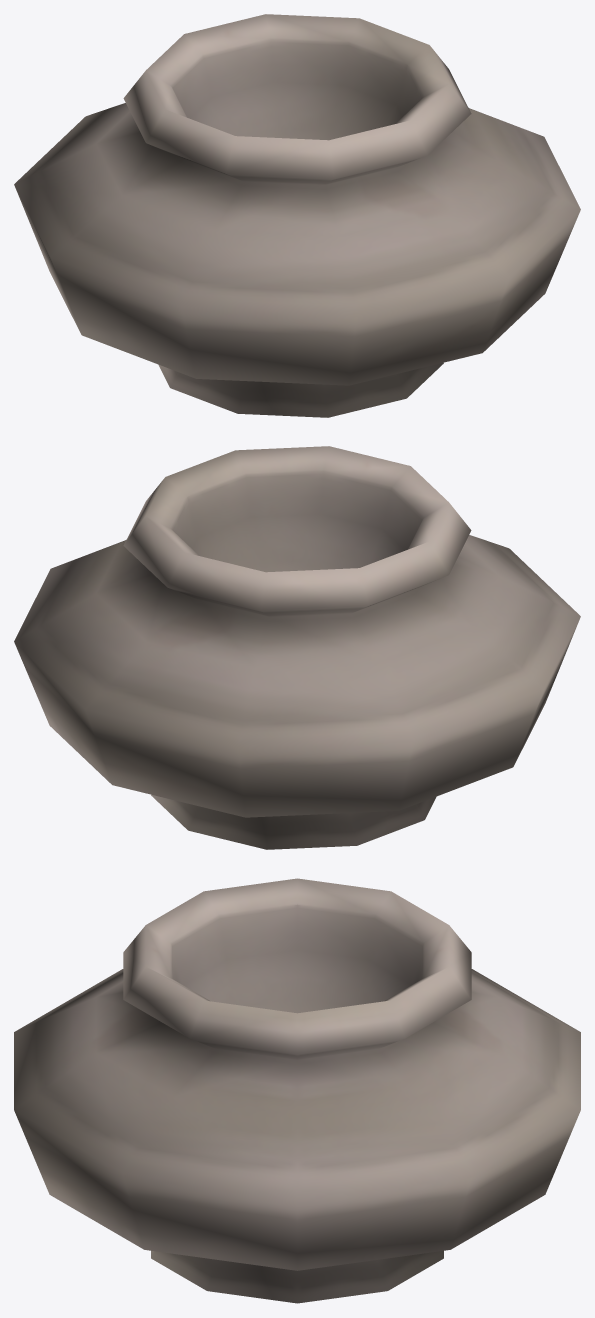
Rendered from O_Vase_B.fbx.
3 views of the same model, one above another, from view 1: azimuth 30°, elevation 25°; view 2: azimuth 150°, elevation 25°; view 3: azimuth 270°, elevation 25° (orthographic). The views are drawn at different scales.
Visible parts, largest first — view 1: O_Vase_B; view 2: O_Vase_B; view 3: O_Vase_B.
Boxes of the visible parts, bbox=[...] form: O_Vase_B: bbox=[14, 14, 580, 417]; O_Vase_B: bbox=[14, 446, 580, 849]; O_Vase_B: bbox=[14, 878, 580, 1303].
Size of the model in its own units: 39.05 by 21.15 by 37.14.
